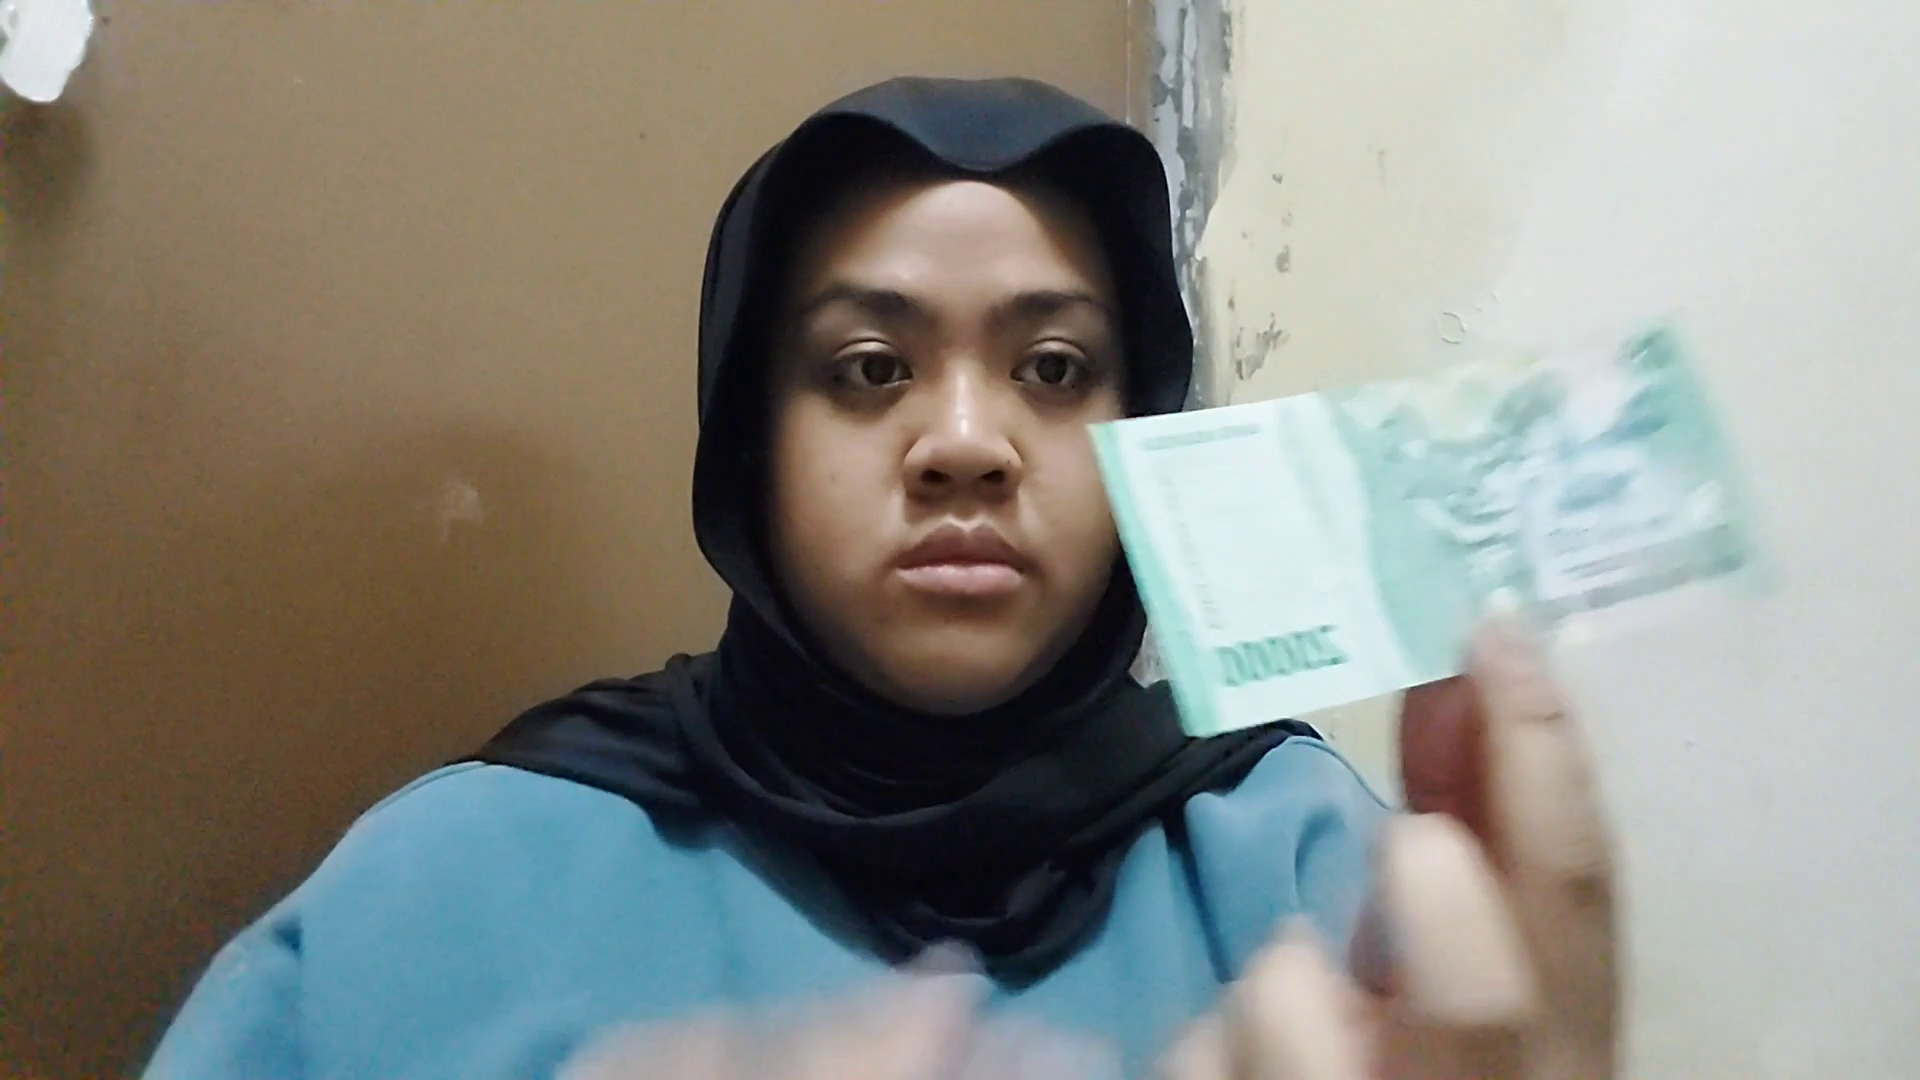20k: (1092, 455, 1708, 761)
